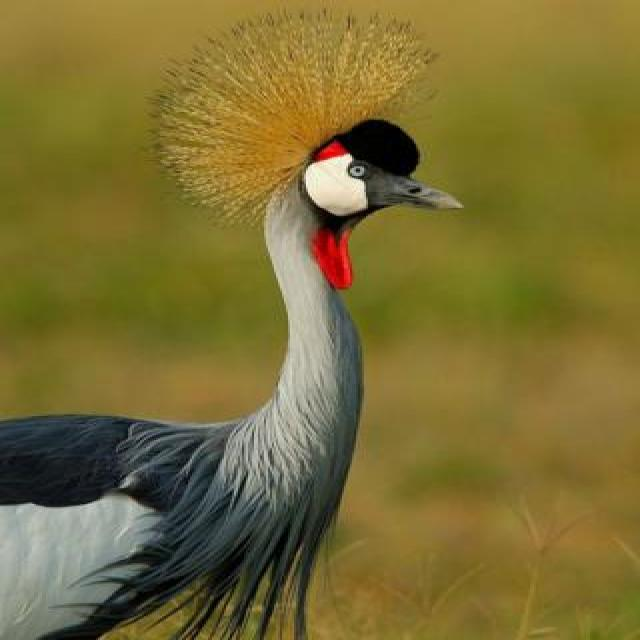birds: (2, 6, 487, 640)
